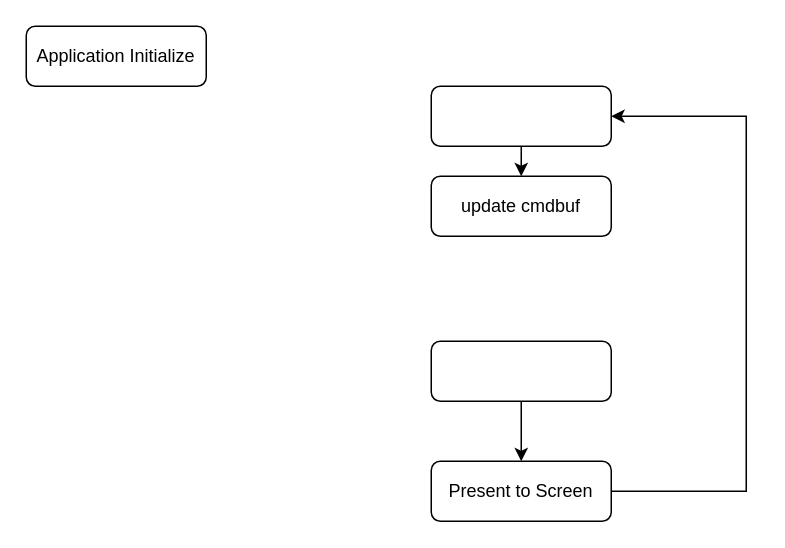
Some shapes in this 785 by 548 pixel diagram are drawn without their labels. The shapes that lost their labels are listed below. From the top down, each one's box as (x1, y1, x2, y2) in pixels, then its label:
(430, 85, 611, 146): Render Loop
(430, 340, 611, 401): submit cmdbuf
